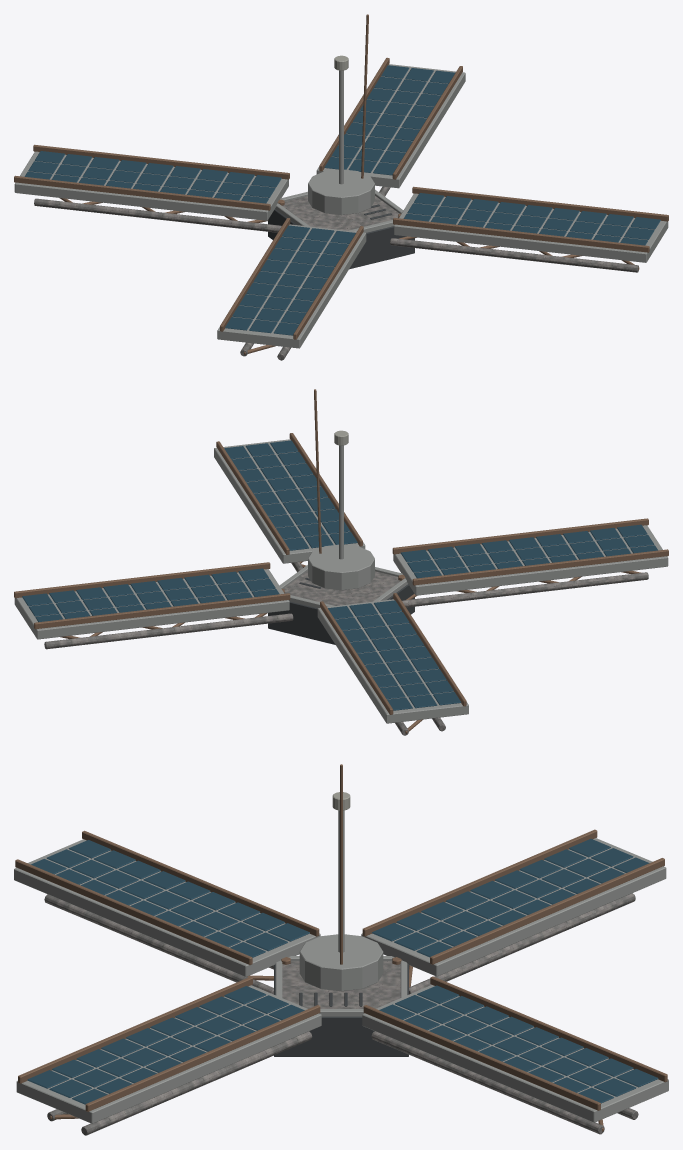
Rendered from beacon-1.glb.
3 renders of one model, top to bottom at view 1: azimuth 30°, elevation 25°; view 2: azimuth 150°, elevation 25°; view 3: azimuth 270°, elevation 25°, orthographic. The views are drawn at different scales.
Parts seen in each view (by area): view 1: Fixed array assembly.003 • editable solid geometry, Fixed array assembly.001 • editable solid geometry, Fixed array assembly.002 • editable solid geometry, Fixed array assembly • editable solid geometry, beacon-1 • editable solid geometry; view 2: Fixed array assembly • editable solid geometry, Fixed array assembly.002 • editable solid geometry, Fixed array assembly.001 • editable solid geometry, Fixed array assembly.003 • editable solid geometry, beacon-1 • editable solid geometry; view 3: Fixed array assembly • editable solid geometry, Fixed array assembly.003 • editable solid geometry, Fixed array assembly.002 • editable solid geometry, Fixed array assembly.001 • editable solid geometry, beacon-1 • editable solid geometry.
Boxes of the visible parts, left/top/right/bottom form: Fixed array assembly.003 • editable solid geometry: left=390, top=186, right=668, bottom=272; Fixed array assembly.001 • editable solid geometry: left=14, top=144, right=289, bottom=232; Fixed array assembly.002 • editable solid geometry: left=217, top=218, right=366, bottom=360; Fixed array assembly • editable solid geometry: left=316, top=57, right=465, bottom=196; beacon-1 • editable solid geometry: left=268, top=14, right=414, bottom=269; Fixed array assembly • editable solid geometry: left=14, top=562, right=293, bottom=649; Fixed array assembly.002 • editable solid geometry: left=392, top=518, right=668, bottom=607; Fixed array assembly.001 • editable solid geometry: left=317, top=593, right=468, bottom=735; Fixed array assembly.003 • editable solid geometry: left=214, top=433, right=365, bottom=572; beacon-1 • editable solid geometry: left=268, top=389, right=414, bottom=644; Fixed array assembly • editable solid geometry: left=362, top=976, right=668, bottom=1134; Fixed array assembly.003 • editable solid geometry: left=16, top=977, right=321, bottom=1135; Fixed array assembly.002 • editable solid geometry: left=14, top=830, right=320, bottom=994; Fixed array assembly.001 • editable solid geometry: left=361, top=829, right=666, bottom=994; beacon-1 • editable solid geometry: left=274, top=764, right=408, bottom=1056.
Size of the model in its own units: 6.55 by 3.2 by 6.55.
Materials: 7 (1 with a texture image).
